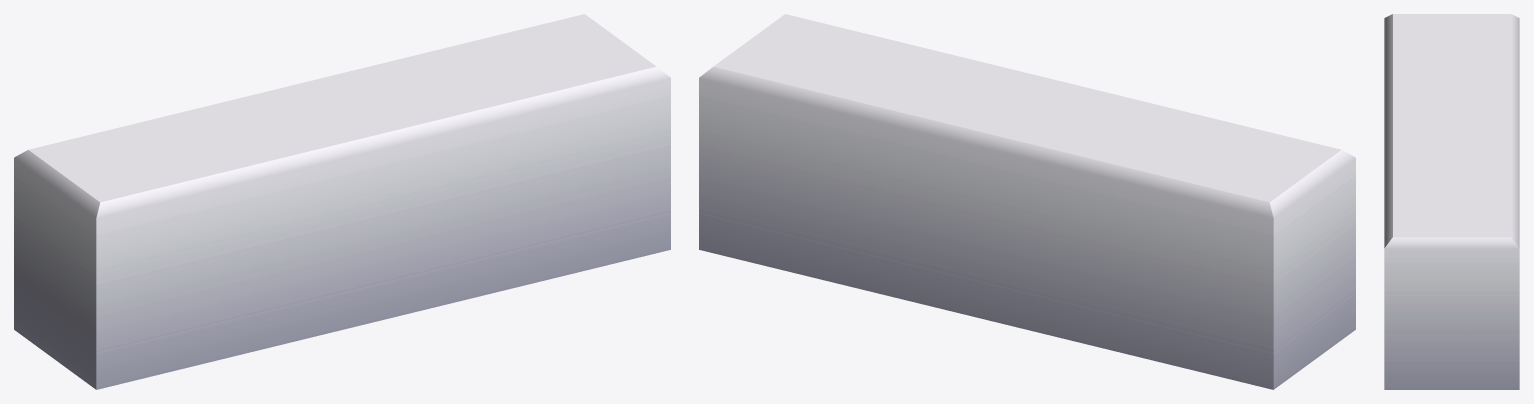
Rendered from none-hq-brick-1x4.glb.
3 renders of one model, left to right at view 1: azimuth 30°, elevation 25°; view 2: azimuth 150°, elevation 25°; view 3: azimuth 270°, elevation 25°, orthographic. The views are drawn at different scales.
Parts seen in each view (by area): view 1: none-hq-brick-1x4; view 2: none-hq-brick-1x4; view 3: none-hq-brick-1x4.
Boxes of the visible parts, <box> form: none-hq-brick-1x4: <box>14,14,670,389</box>; none-hq-brick-1x4: <box>699,14,1355,389</box>; none-hq-brick-1x4: <box>1384,14,1519,389</box>.
Size of the model in its own units: 0.318 by 0.096 by 0.079.
1 material, 1 textured.
